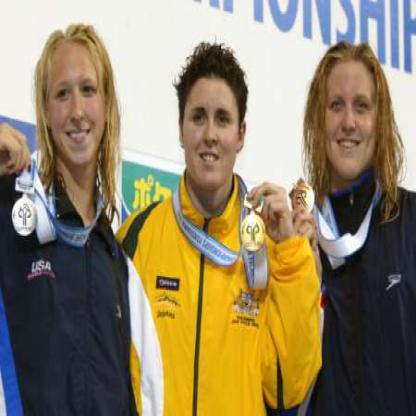face: (323, 46, 381, 179), (48, 39, 107, 168), (183, 59, 241, 190)
